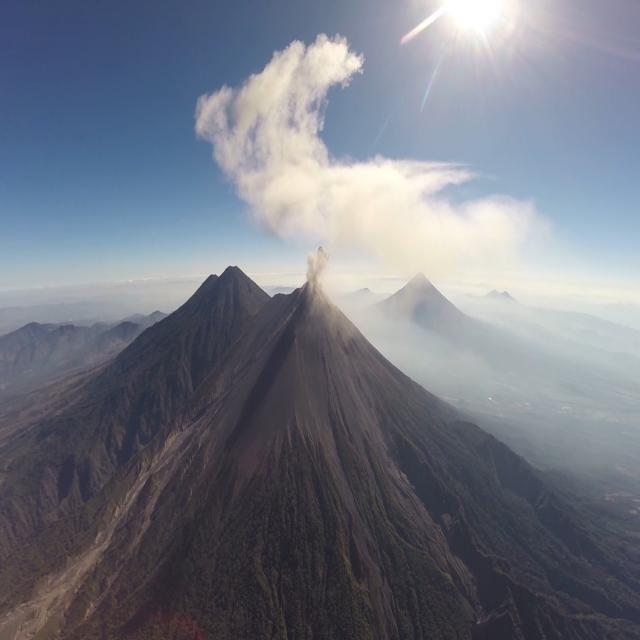Plume: (198, 27, 532, 280), (306, 244, 328, 288)
Summit: (290, 274, 329, 304)
